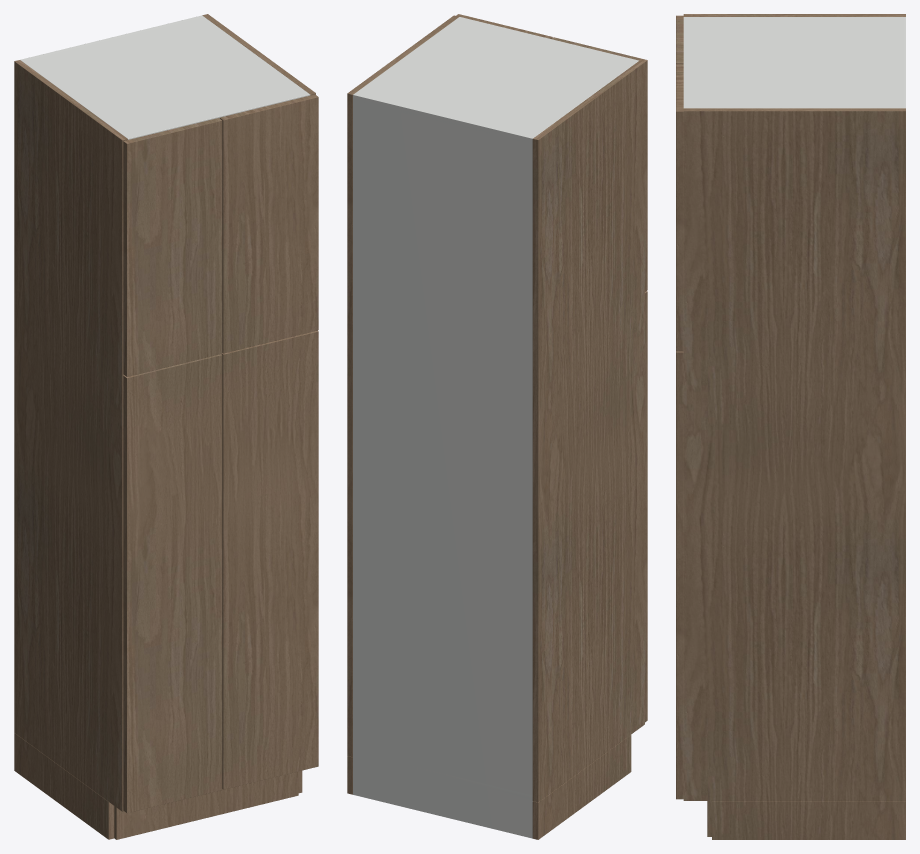
The model's file is bvc-2072.glb.
3 views of the same model, side by side, from view 1: azimuth 30°, elevation 25°; view 2: azimuth 150°, elevation 25°; view 3: azimuth 270°, elevation 25° (orthographic). The views are drawn at different scales.
Parts seen in each view (by area): view 1: Cabinet side, Door, Door.001, Door.002, Door.003, Cabinet top, Recessed toe board, Recessed side plinth, Cabinet side.001; view 2: Cabinet back, Cabinet side, Cabinet top, Cabinet side.001, Recessed side plinth, Door, Door.002; view 3: Cabinet side.001, Cabinet top, Recessed side plinth.001, Door.001, Door.003, Cabinet side, Cabinet back.
Part boxes in pixels (bbox=[...]): Cabinet side: bbox=[14, 60, 127, 811]; Door: bbox=[123, 354, 222, 813]; Door.001: bbox=[221, 330, 318, 789]; Door.002: bbox=[123, 118, 222, 376]; Door.003: bbox=[219, 94, 318, 353]; Cabinet top: bbox=[22, 17, 310, 139]; Recessed toe board: bbox=[114, 771, 298, 839]; Recessed side plinth: bbox=[14, 733, 114, 839]; Cabinet side.001: bbox=[202, 14, 315, 95]; Cabinet back: bbox=[353, 93, 534, 838]; Cabinet side: bbox=[532, 60, 644, 802]; Cabinet top: bbox=[353, 17, 638, 143]; Cabinet side.001: bbox=[347, 15, 458, 757]; Recessed side plinth: bbox=[532, 735, 631, 839]; Door: bbox=[645, 291, 647, 722]; Door.002: bbox=[551, 37, 647, 291]; Cabinet side.001: bbox=[683, 108, 905, 800]; Cabinet top: bbox=[683, 17, 901, 108]; Recessed side plinth.001: bbox=[712, 801, 905, 839]; Door.001: bbox=[676, 351, 683, 799]; Door.003: bbox=[676, 63, 683, 351]; Cabinet side: bbox=[683, 14, 905, 16]; Cabinet back: bbox=[901, 17, 905, 108].
Size of the model in its own units: 0.6096 by 2.13 by 0.6096.
Materials: 2 (1 with a texture image).
